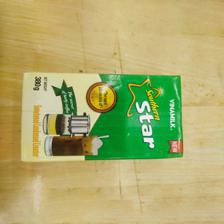NSPN_Hop: (18, 70, 187, 162)
